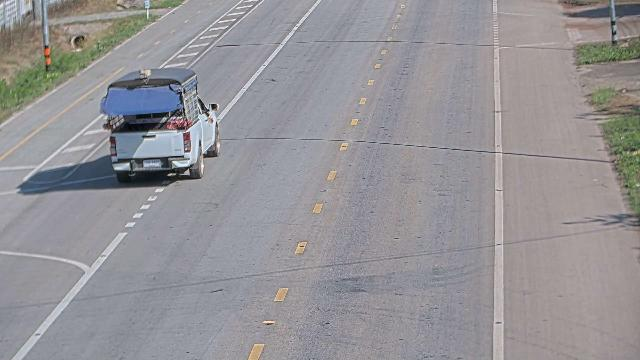pickup-truck: (99, 66, 221, 183)
